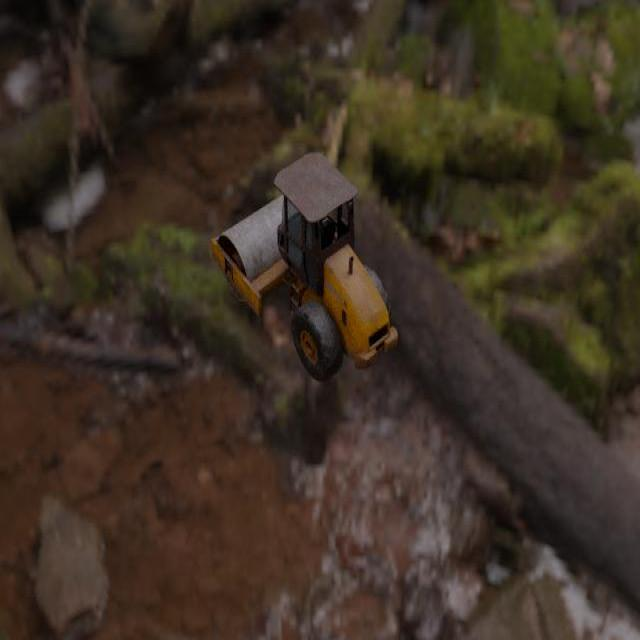Roller: (210, 152, 398, 383)
